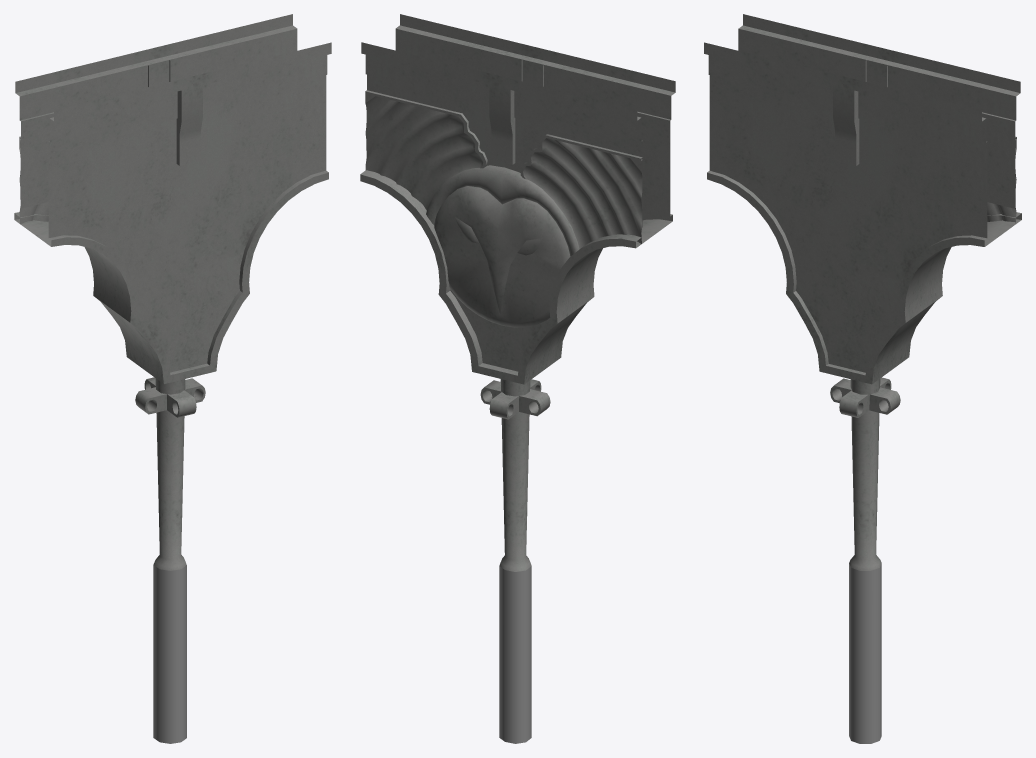
The model's file is PillarTextureTest.FBX.
The picture shows the model from 3 angles, left to right: view 1: azimuth 30°, elevation 25°; view 2: azimuth 150°, elevation 25°; view 3: azimuth 330°, elevation 25°; orthographic projection.
Parts seen in each view (by area): view 1: Pillar_Center; view 2: Pillar_Center; view 3: Pillar_Center.
Boxes of the visible parts, x1,y1,x2,y2 form: Pillar_Center: (14,14,331,743); Pillar_Center: (360,14,675,743); Pillar_Center: (704,14,1021,743).
Bounding box in the file's own units: 173 × 403 × 44.13.
Materials: 2 (1 with a texture image).
